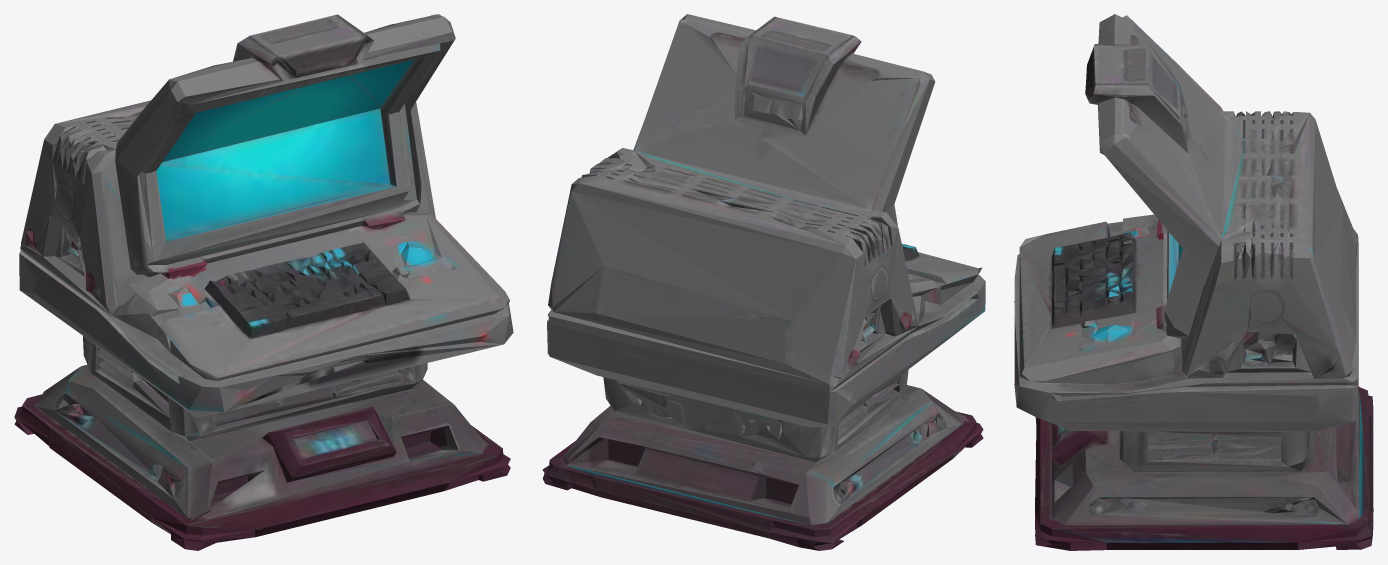
Rendered from console.glb.
3 views of the same model, side by side, from view 1: azimuth 30°, elevation 25°; view 2: azimuth 150°, elevation 25°; view 3: azimuth 270°, elevation 25° (orthographic). The views are drawn at different scales.
Parts seen in each view (by area): view 1: output_unwrapped; view 2: output_unwrapped; view 3: output_unwrapped.
Part boxes in pixels (left/top/right/bottom): output_unwrapped: left=14, top=14, right=513, bottom=550; output_unwrapped: left=542, top=14, right=985, bottom=550; output_unwrapped: left=1014, top=14, right=1373, bottom=550.
Bounding box in the file's own units: 1.5 × 1.9 × 1.49.
Materials: 1 (1 with a texture image).
